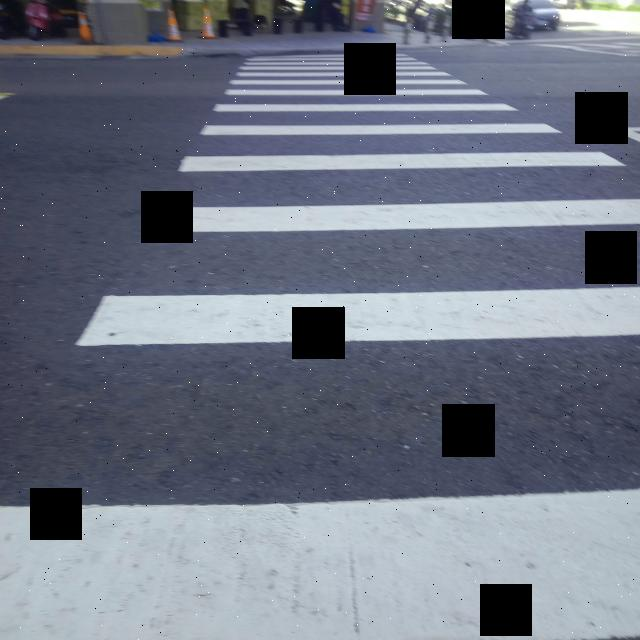zebra_crossing: (0, 56, 640, 640)
